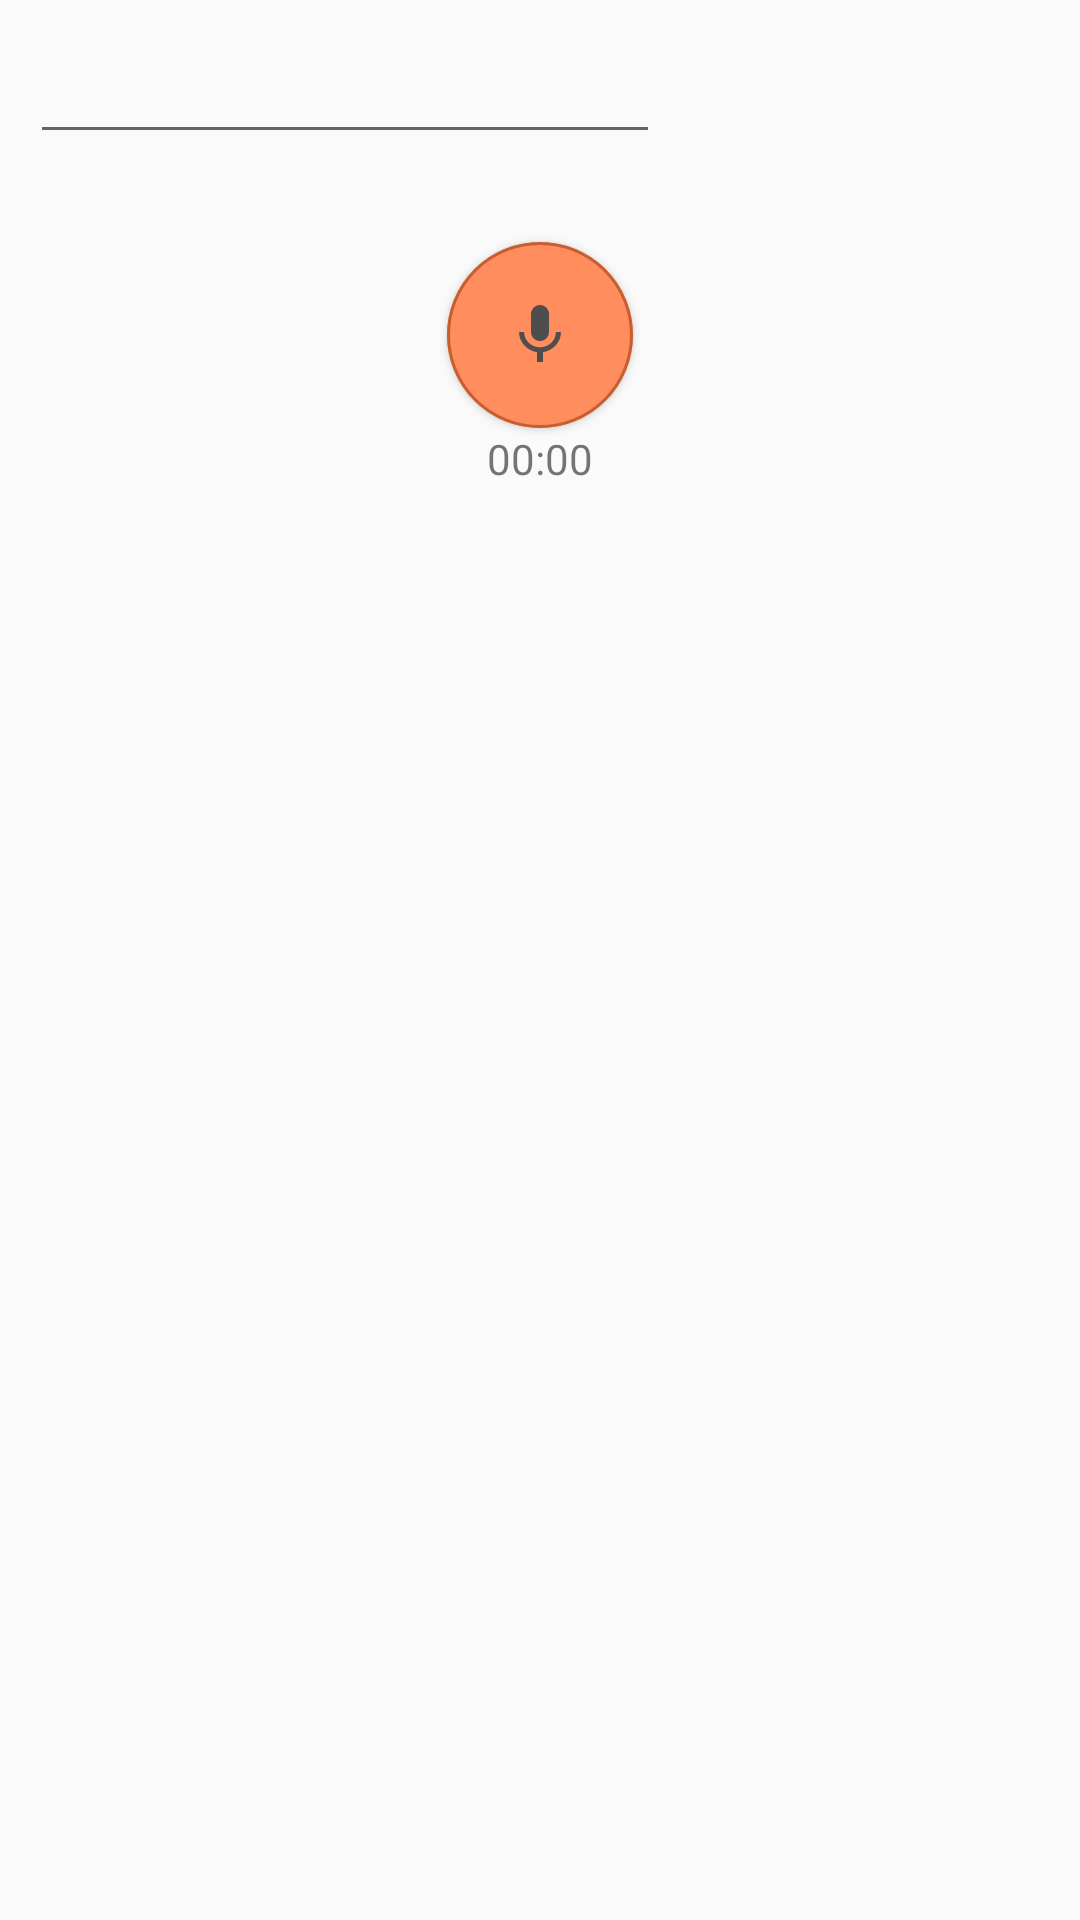

Named icons in this screenshot (1080 x 1920) and their bounding boxes, detection(x1, y1, x2, y2):
record ll: detection(447, 242, 633, 428)
